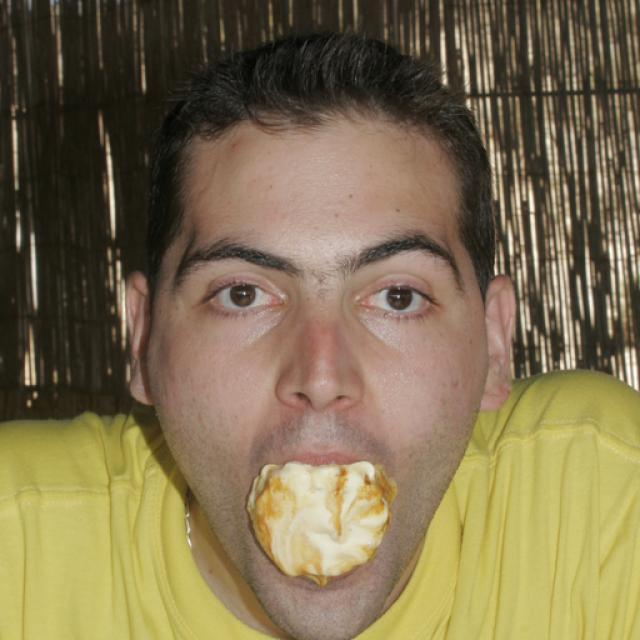surprise: (148, 99, 488, 635)
